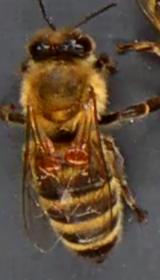varroa_mite: (60, 142, 96, 169), (40, 143, 64, 176)
